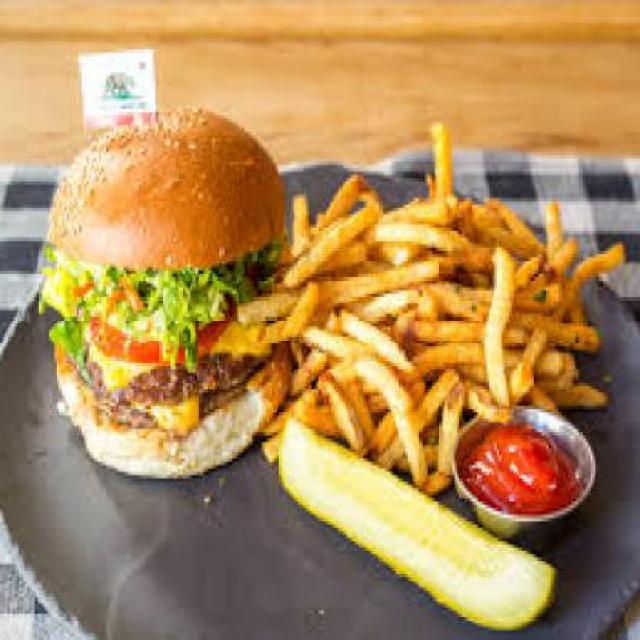french fries: (267, 116, 630, 478)
hamburger: (47, 96, 287, 484)
